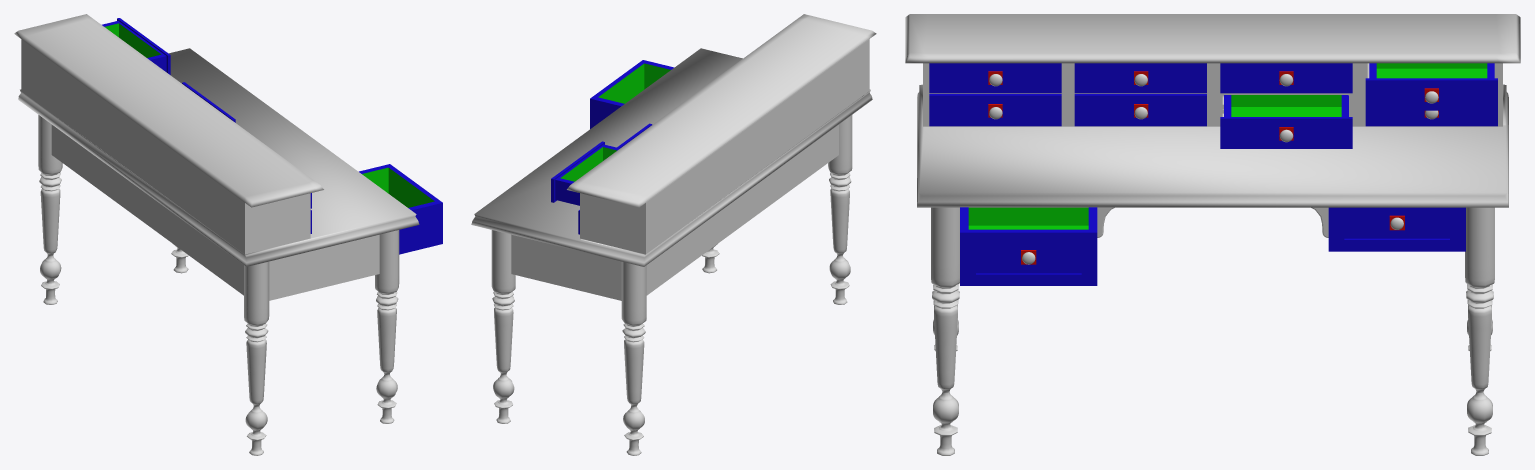
Rendered from decorativOldDesk.fbx.
The picture shows the model from 3 angles, left to right: view 1: azimuth 30°, elevation 25°; view 2: azimuth 150°, elevation 25°; view 3: azimuth 270°, elevation 25°; orthographic projection. The views are drawn at different scales.
Visible parts, largest first — view 1: blatTop, blatMid, calosUp, noga, back, boki, polka.001, malaPolka.003; view 2: blatTop, calosUp, blatMid, noga, back, boki, polka.001, malaPolka.003; view 3: blatMid, blatTop, malaPolka, noga, polka.001, malaPolka.001, malaPolka.002, malaPolka.003, polka, calosUp, raczkaUp.
Part boxes in pixels (x1,y1,x2,y2): blatTop: (14,14,323,207); blatMid: (18,48,419,266); calosUp: (21,38,310,254); noga: (38,115,399,455); back: (51,124,243,295); boki: (269,234,379,300); polka.001: (359,164,442,254); malaPolka.003: (102,18,170,74); blatTop: (567,14,876,207); calosUp: (580,38,869,254); blatMid: (471,48,872,266); noga: (491,115,852,455); back: (646,124,838,295); boki: (511,234,621,300); polka.001: (590,60,674,128); malaPolka.003: (551,141,619,205); blatMid: (917,84,1508,207); blatTop: (905,14,1520,63); malaPolka: (929,63,1352,93); noga: (931,207,1494,455); polka.001: (960,207,1097,285); malaPolka.001: (929,94,1497,126); malaPolka.002: (1220,95,1352,148); malaPolka.003: (1365,63,1497,110); polka: (1328,207,1465,251); calosUp: (923,63,1502,126); raczkaUp: (989,74,1438,119).
Bounding box in the file's own units: 32.15 × 37.79 × 61.14.
